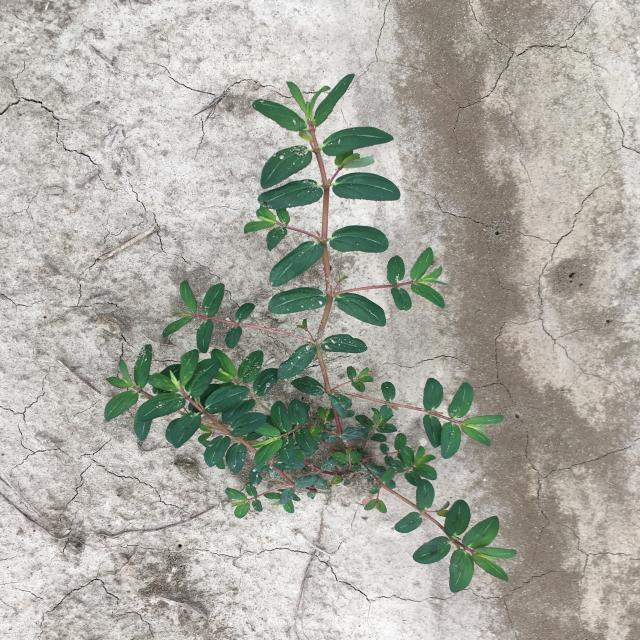SpottedSpurge: (104, 74, 517, 594)
